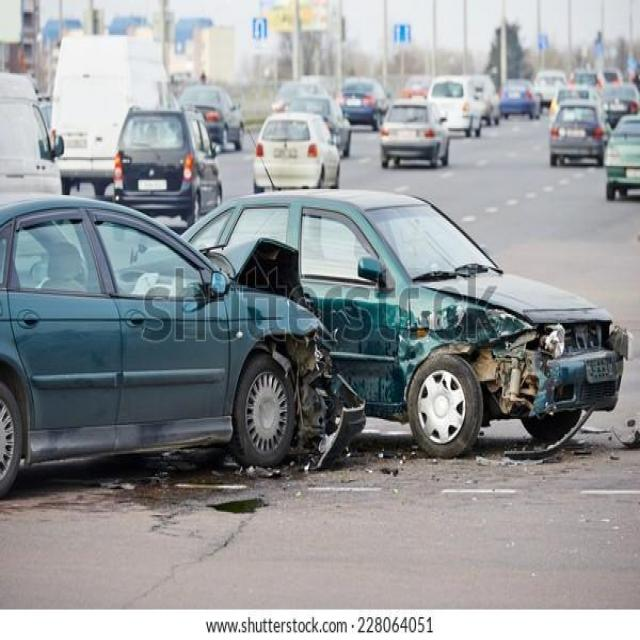accident: (12, 162, 506, 441)
